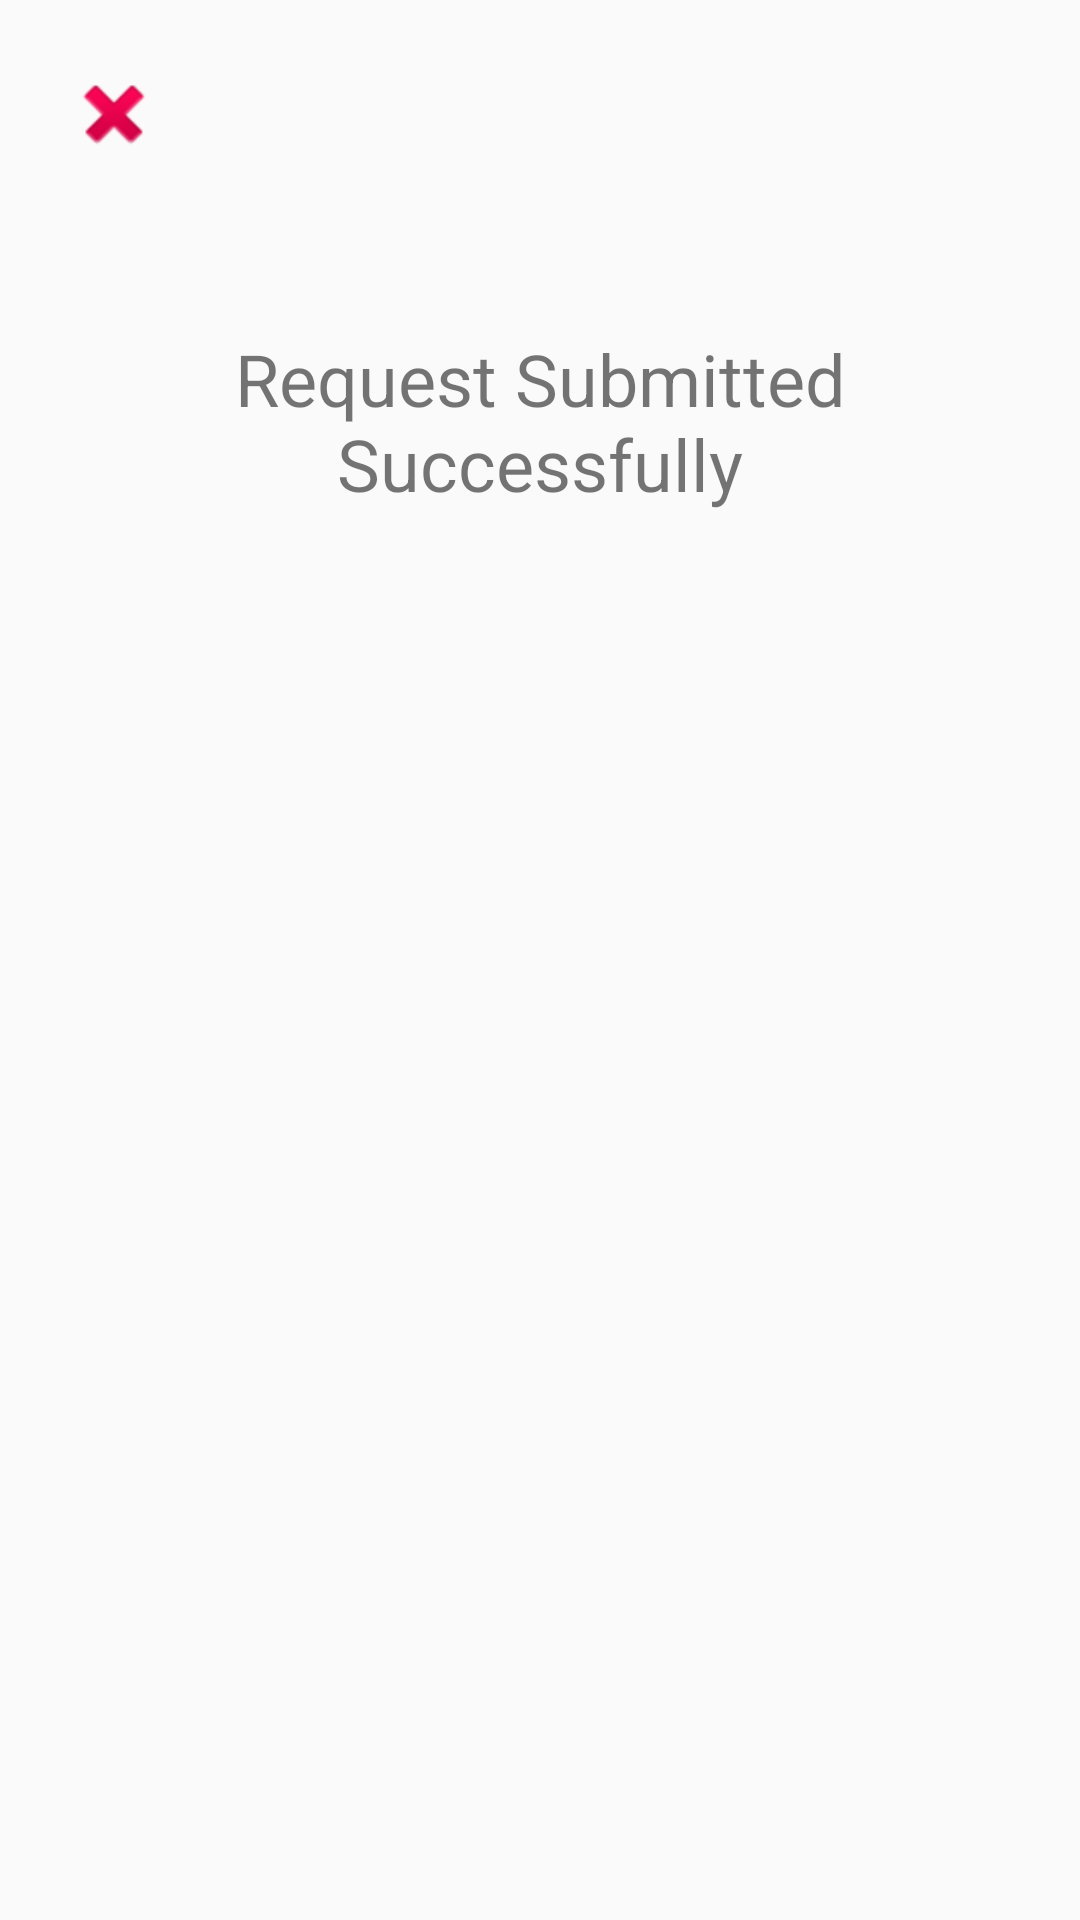

Locate icon controls on the screen. Image size 1080 x 1920, boxes as box=[x1, y1, x2, y2].
delete: box=[83, 85, 145, 144]
